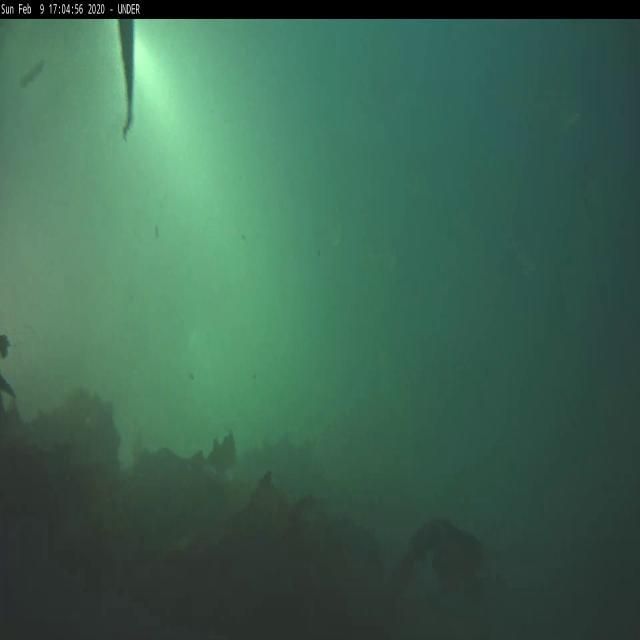fish: (115, 15, 136, 136)
